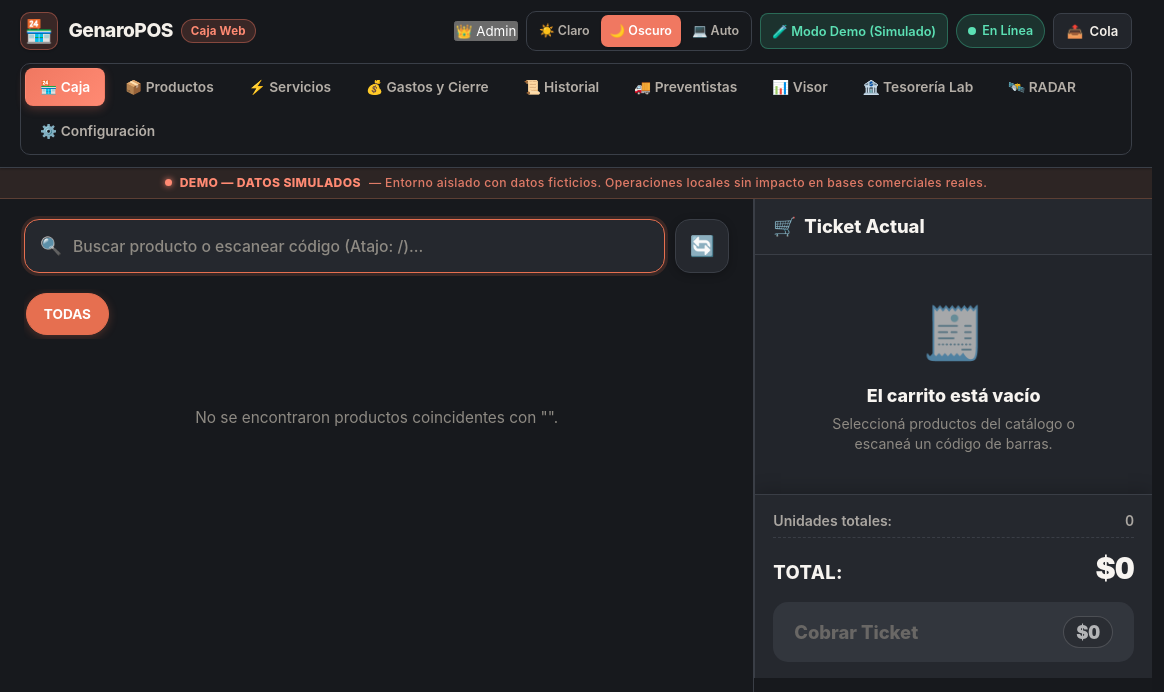
it: GenaroPOS — Módulo de Servicios y Cargas (Frontend / IndexedDB) › 5. Rechaza el registro si el monto de la carga es menor o igual a cero
Click the button with test id "nav-btn-servicios".
click(290, 87)  # box x1=234 y1=68 x2=346 y2=106
(page scrolled)
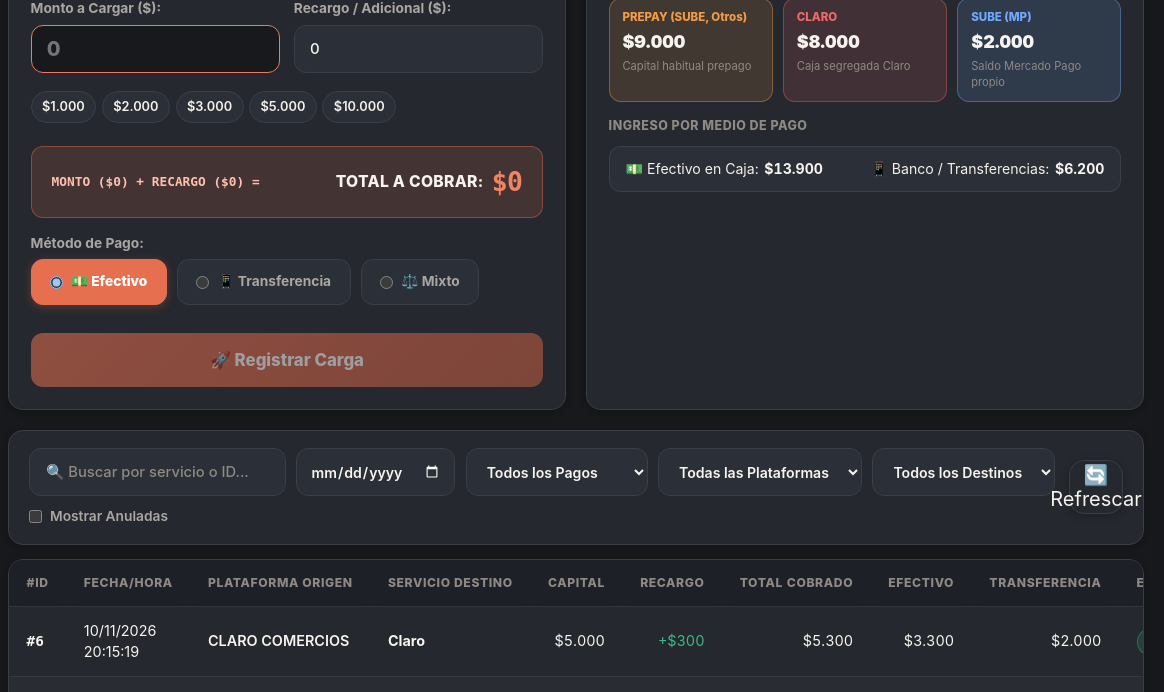
Expected: the button with test id "btn-register-charge" is disabled, x1=31 y1=333 x2=543 y2=387
